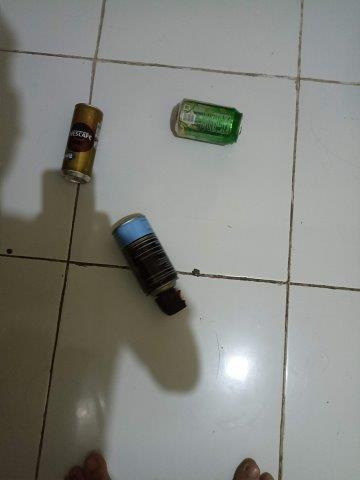kaleng: (112, 214, 180, 298), (61, 102, 104, 184), (174, 98, 245, 146)
